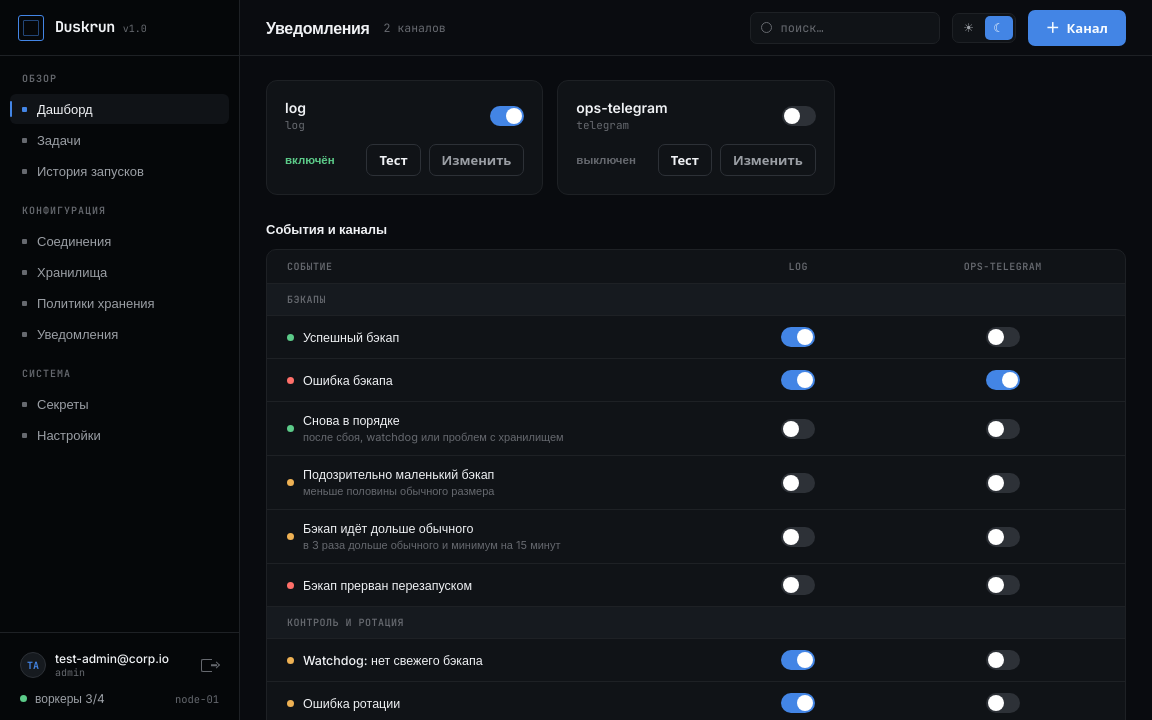
TestNotificationsPushUnavailable: the form says why and will not save
This screenshot has width=1152, height=720.
What coordinates should you click on to do the following:
click the button "＋ Канал"
I would click on:
 (1077, 28)
Its box is [1028,10,1126,46].
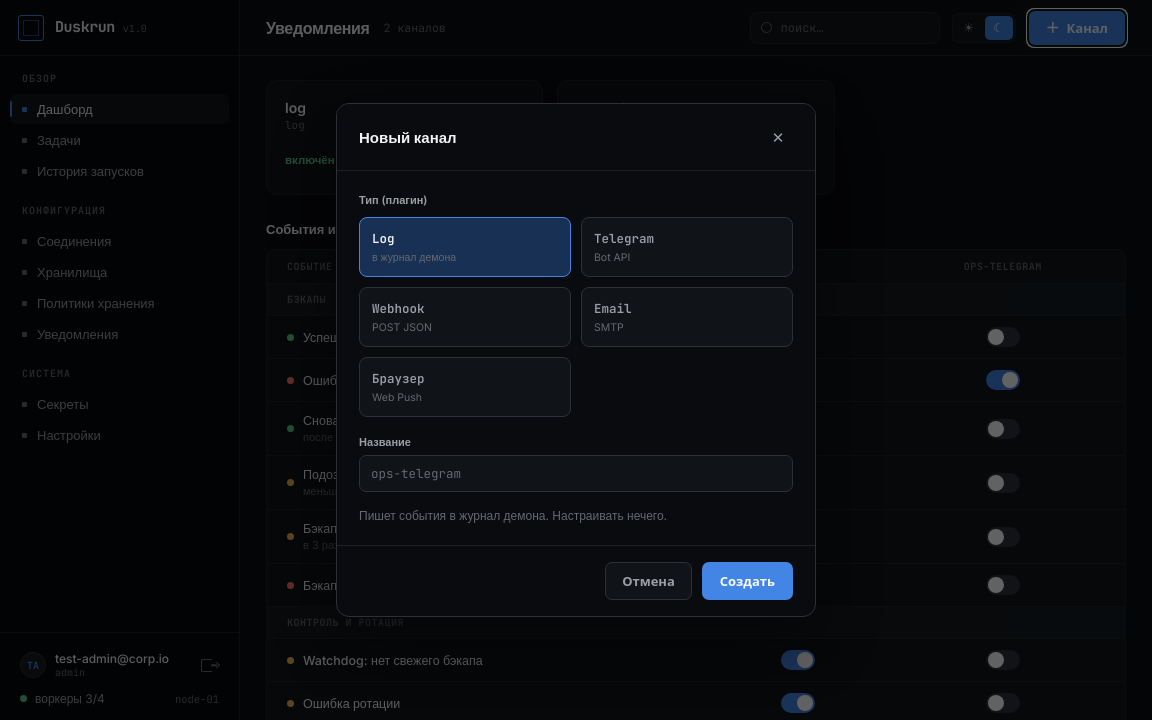
What coordinates should you click on to do the following:
click the text "Браузер"
I would click on:
 (398, 378)
Its box is [372,370,424,387].
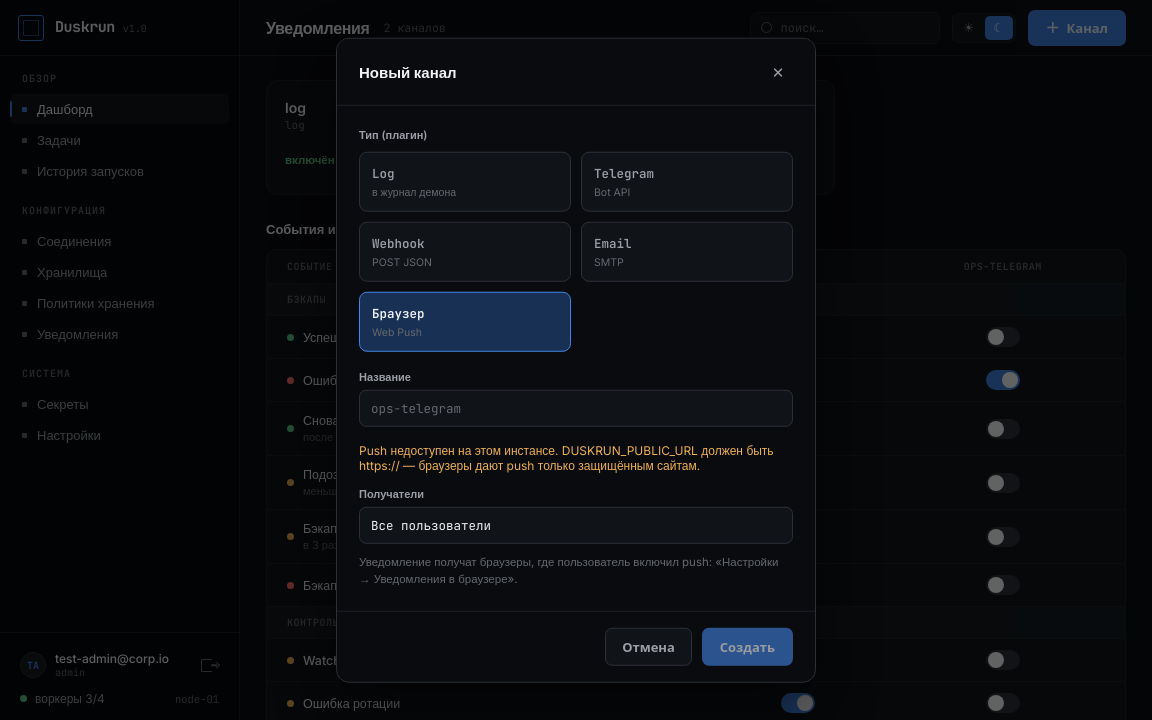
expect the text "Push недоступен на этом инстансе" is shown: met, box [359,443,562,458]
expect the text "https://" is shown: met, box [359,443,774,473]
expect the button "Создать" is disabled: met, box [702,627,793,665]
